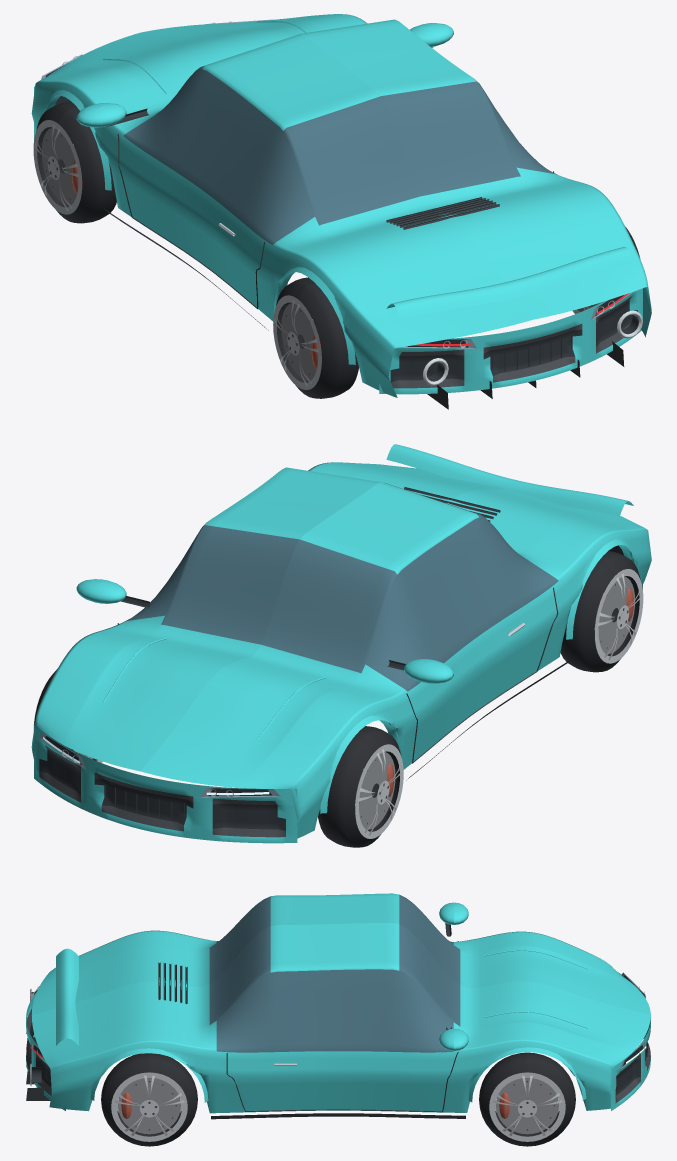
Rendered from vortex_s_medium.glb.
3 renders of one model, top to bottom at view 1: azimuth 30°, elevation 25°; view 2: azimuth 150°, elevation 25°; view 3: azimuth 270°, elevation 25°, orthographic. The views are drawn at different scales.
Visible parts, largest first — view 1: Body, Wheel_2, Wheel_0; view 2: Body, Wheel_0, Wheel_2; view 3: Body, Wheel_1, Wheel_3.
Boxes of the visible parts, x1,y1,x2,y2 form: Body: (31, 14, 651, 409); Wheel_2: (273, 277, 358, 398); Wheel_0: (33, 101, 116, 223); Body: (31, 444, 651, 843); Wheel_0: (318, 726, 403, 847); Wheel_2: (560, 551, 643, 672); Body: (26, 893, 650, 1119); Wheel_1: (479, 1052, 575, 1146); Wheel_3: (101, 1053, 197, 1146).
Bounding box in the file's own units: 2.39 × 1.29 × 4.55.
